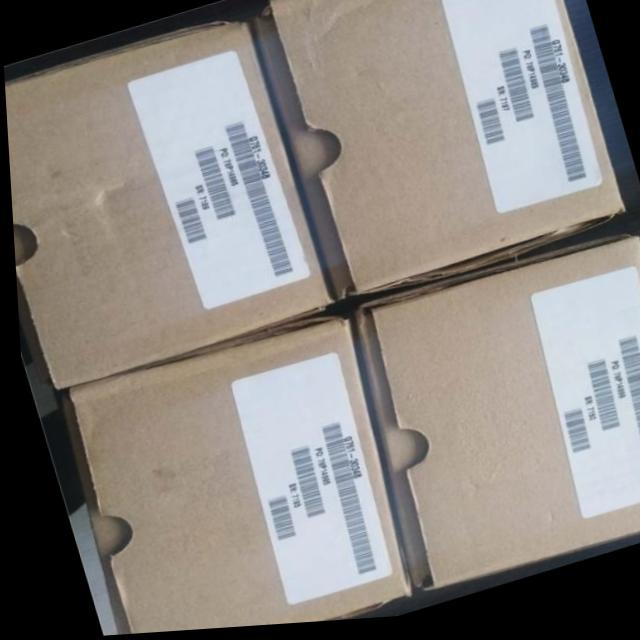box: (4, 23, 331, 392), (244, 0, 621, 308), (52, 308, 402, 636), (332, 241, 640, 597)
